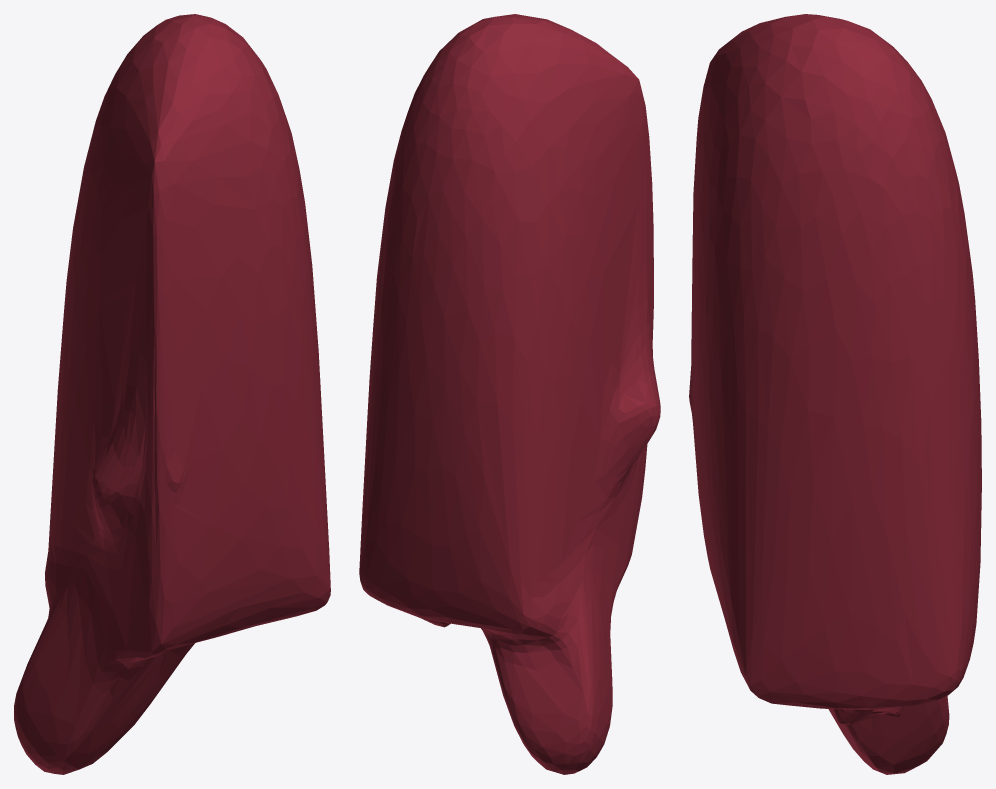
3 renders of one model, left to right at view 1: azimuth 30°, elevation 25°; view 2: azimuth 150°, elevation 25°; view 3: azimuth 270°, elevation 25°, orthographic. The views are drawn at different scales.
Visible parts, largest first — view 1: 273_Cube.1117; view 2: 273_Cube.1117; view 3: 273_Cube.1117.
Part boxes in pixels (x1,y1,x2,y2): 273_Cube.1117: (14, 14, 330, 774); 273_Cube.1117: (359, 14, 660, 774); 273_Cube.1117: (689, 14, 981, 774).
Bounding box in the file's own units: 4.92 × 14.14 × 4.7.
